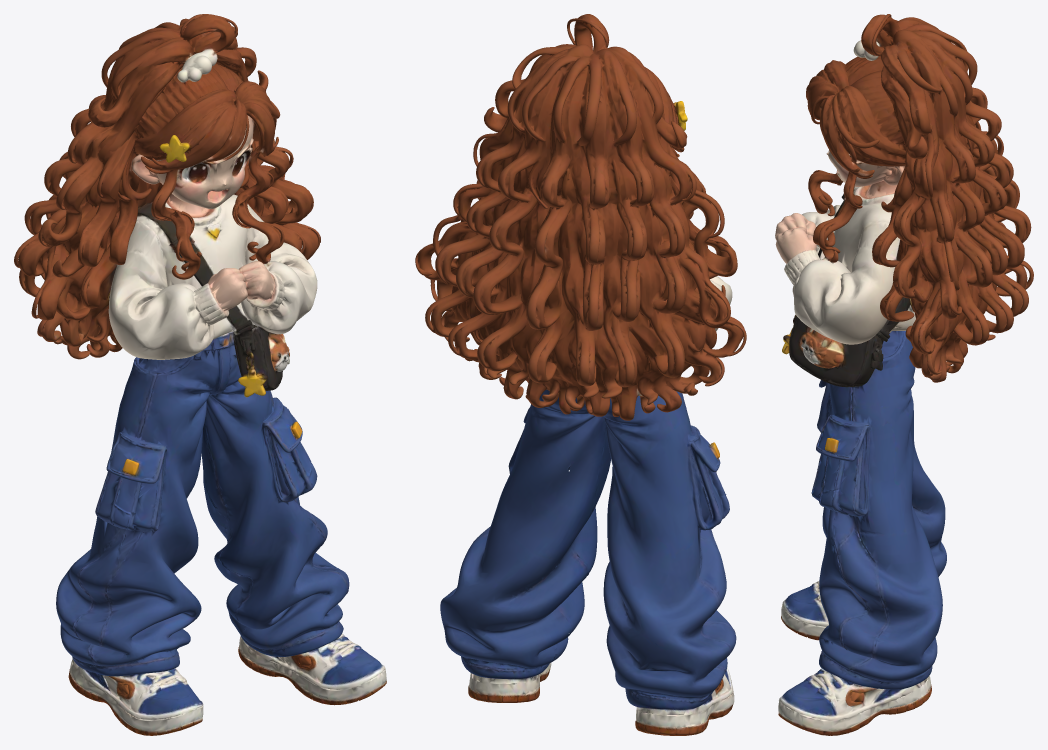
File: stats-chibi-girl.glb
The picture shows the model from 3 angles, left to right: view 1: azimuth 30°, elevation 25°; view 2: azimuth 150°, elevation 25°; view 3: azimuth 270°, elevation 25°; orthographic projection. The views are drawn at different scales.
Visible parts, largest first — view 1: tripo_node_a20d4709-8f22-4e9e-9825-e00a543a6897; view 2: tripo_node_a20d4709-8f22-4e9e-9825-e00a543a6897; view 3: tripo_node_a20d4709-8f22-4e9e-9825-e00a543a6897.
Boxes of the visible parts, x1=… form: tripo_node_a20d4709-8f22-4e9e-9825-e00a543a6897: x1=14, y1=14, x2=386, y2=735; tripo_node_a20d4709-8f22-4e9e-9825-e00a543a6897: x1=415, y1=14, x2=746, y2=735; tripo_node_a20d4709-8f22-4e9e-9825-e00a543a6897: x1=775, y1=14, x2=1033, y2=735.
Bounding box in the file's own units: 0.4543 × 0.9796 × 0.348.
Materials: 1 (1 with a texture image).
